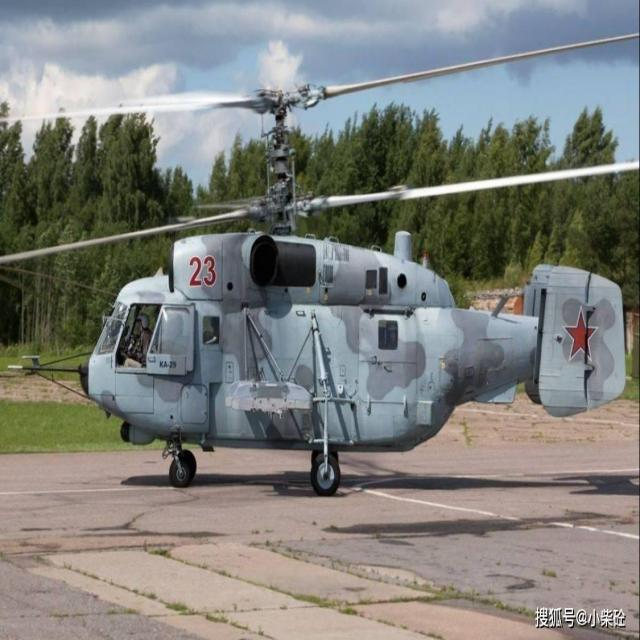MIL_HELO: (0, 28, 640, 502)
